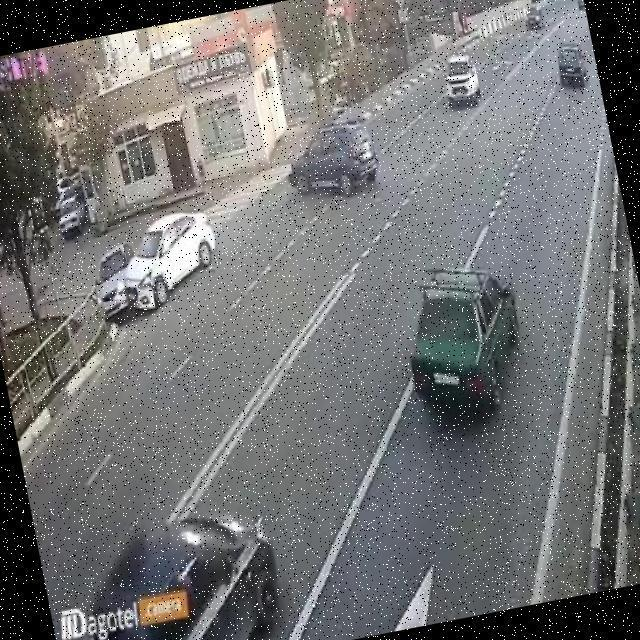accident: (86, 229, 174, 323)
